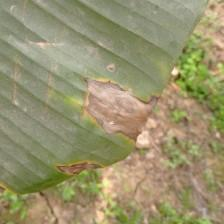cordana: (0, 0, 207, 194)
